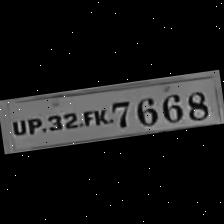2: (59, 108, 80, 130)
3: (42, 111, 63, 132)
6: (130, 94, 159, 128), (156, 90, 184, 124)
7: (107, 97, 134, 130)
8: (182, 86, 211, 122)
P: (22, 115, 44, 135)
U: (7, 118, 27, 138)
